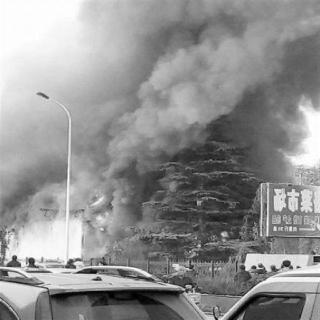Fire: (181, 224, 245, 274), (87, 182, 123, 235)
Smoke: (12, 3, 312, 173)
